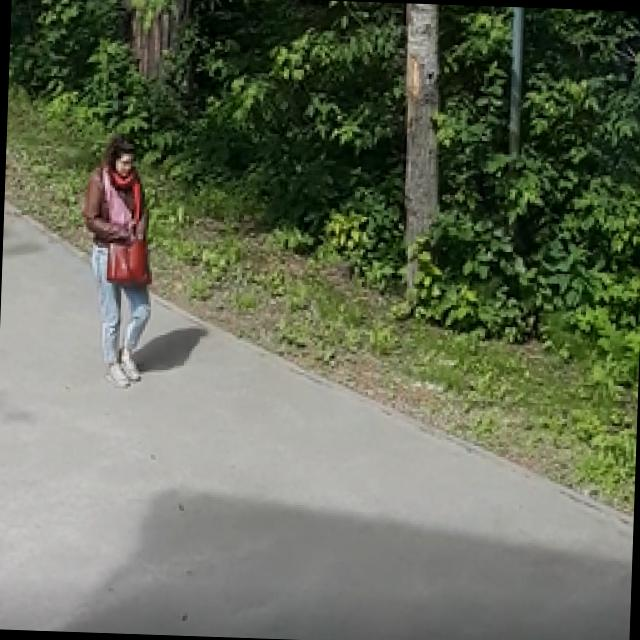person: (78, 132, 158, 389)
